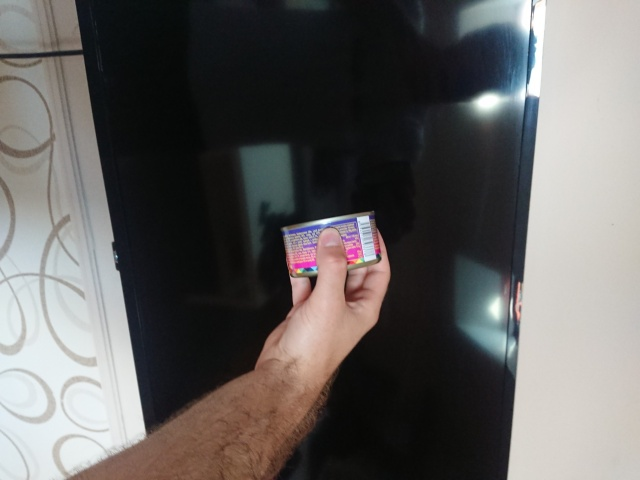Giana Tuna Salad Mexico 185g: (277, 208, 384, 281)
